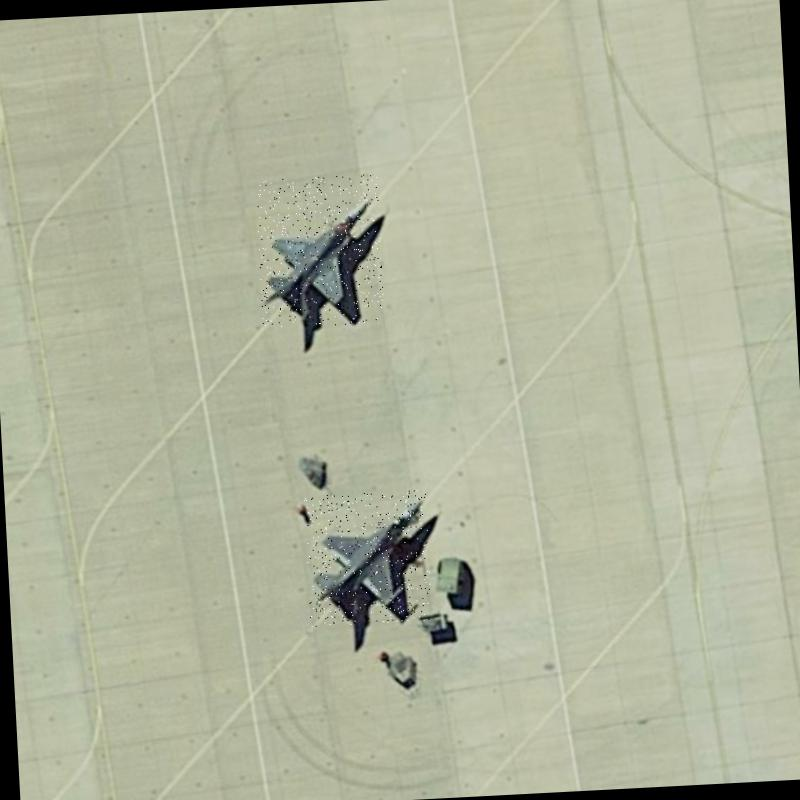A5: (255, 174, 385, 329), (302, 490, 432, 627)
